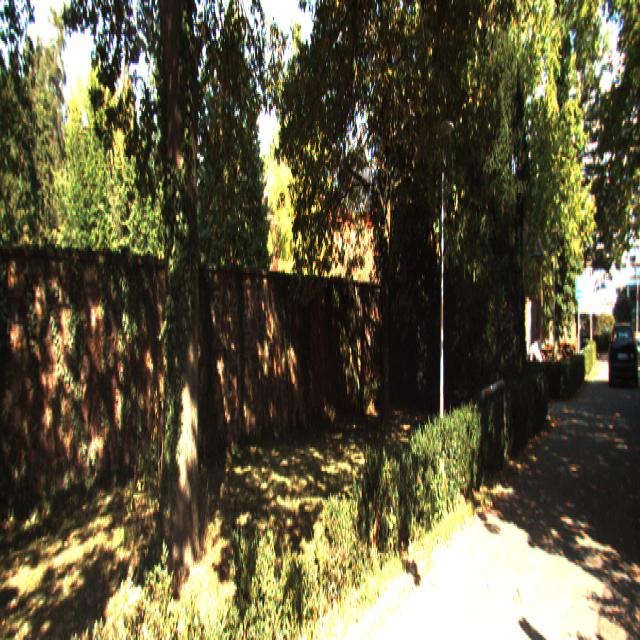Car: (609, 316, 639, 386)
